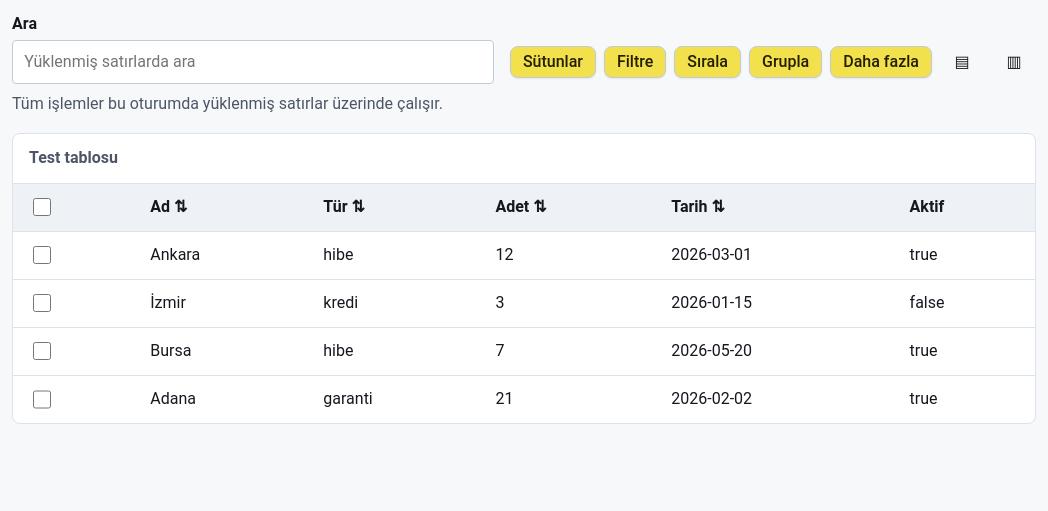
Test: selection and bulk actions › shows a bulk bar that names the loaded scope
Click the checkbox named "Ankara satırını seç" next to "Ankara" at (42, 255), box [33, 246, 51, 264]
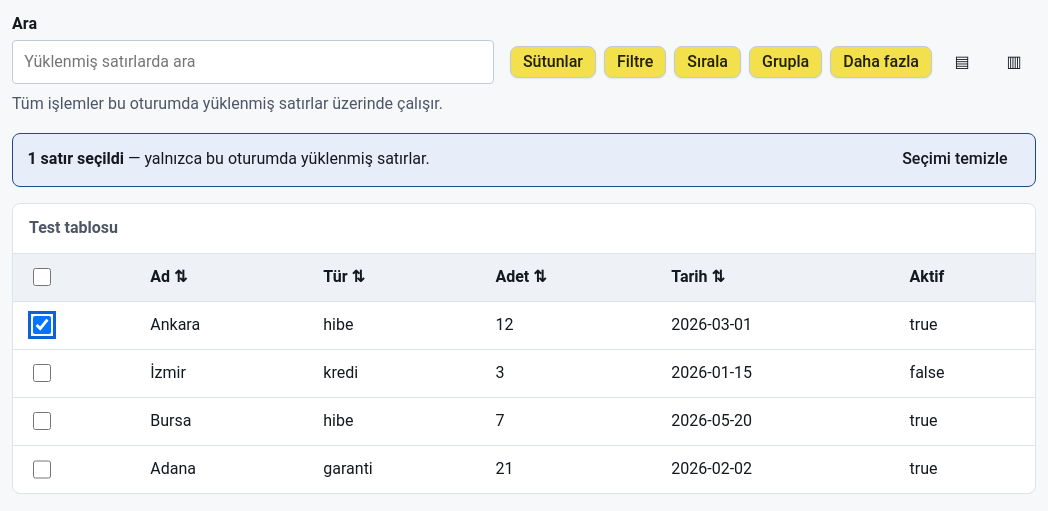
Now the element named "Toplu eylem" shows "1 satır seçildi", box [12, 133, 1036, 187]
Now the element named "Toplu eylem" shows "yüklenmiş", box [124, 149, 430, 168]
